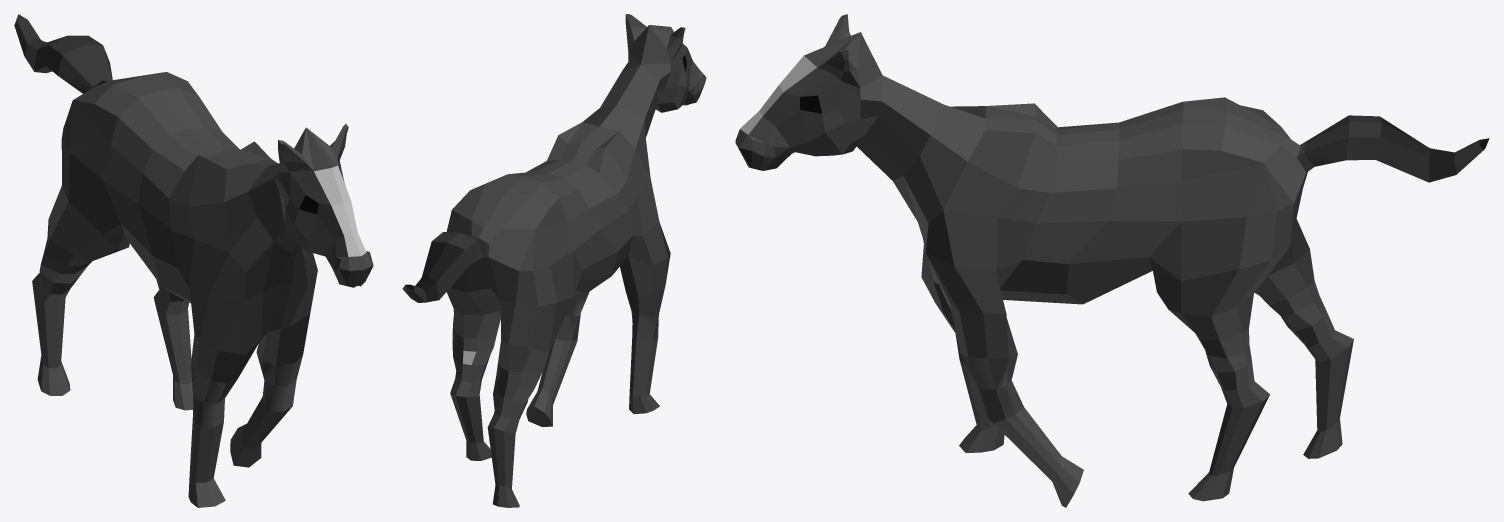
File: Horse_3.FBX
The picture shows the model from 3 angles, left to right: view 1: azimuth 30°, elevation 25°; view 2: azimuth 150°, elevation 25°; view 3: azimuth 270°, elevation 25°; orthographic projection. The views are drawn at different scales.
Parts seen in each view (by area): view 1: Horse_3; view 2: Horse_3; view 3: Horse_3.
Boxes of the visible parts, x1,y1,x2,y2 form: Horse_3: [14, 14, 373, 507]; Horse_3: [402, 14, 706, 507]; Horse_3: [735, 14, 1489, 507].
Bounding box in the file's own units: 0.718 × 2.07 × 3.11.
1 material, 1 textured.
